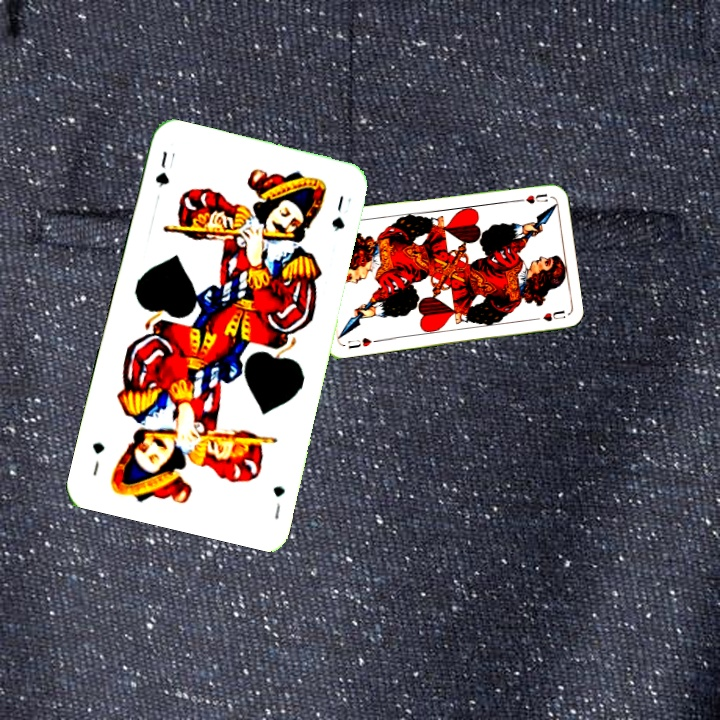GU: (151, 147, 172, 190), (269, 481, 288, 522)
HU: (344, 334, 381, 351), (511, 190, 550, 206)
